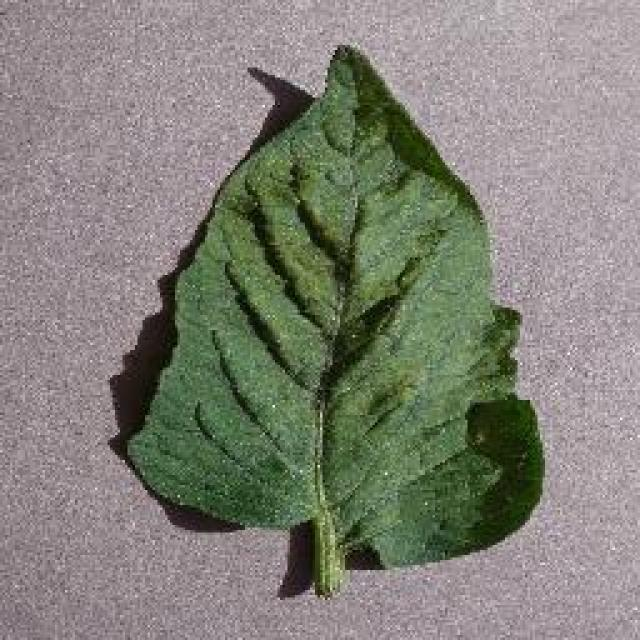Tomato___Spider_mites Two-spotted_spider_mite: (128, 45, 542, 592)
